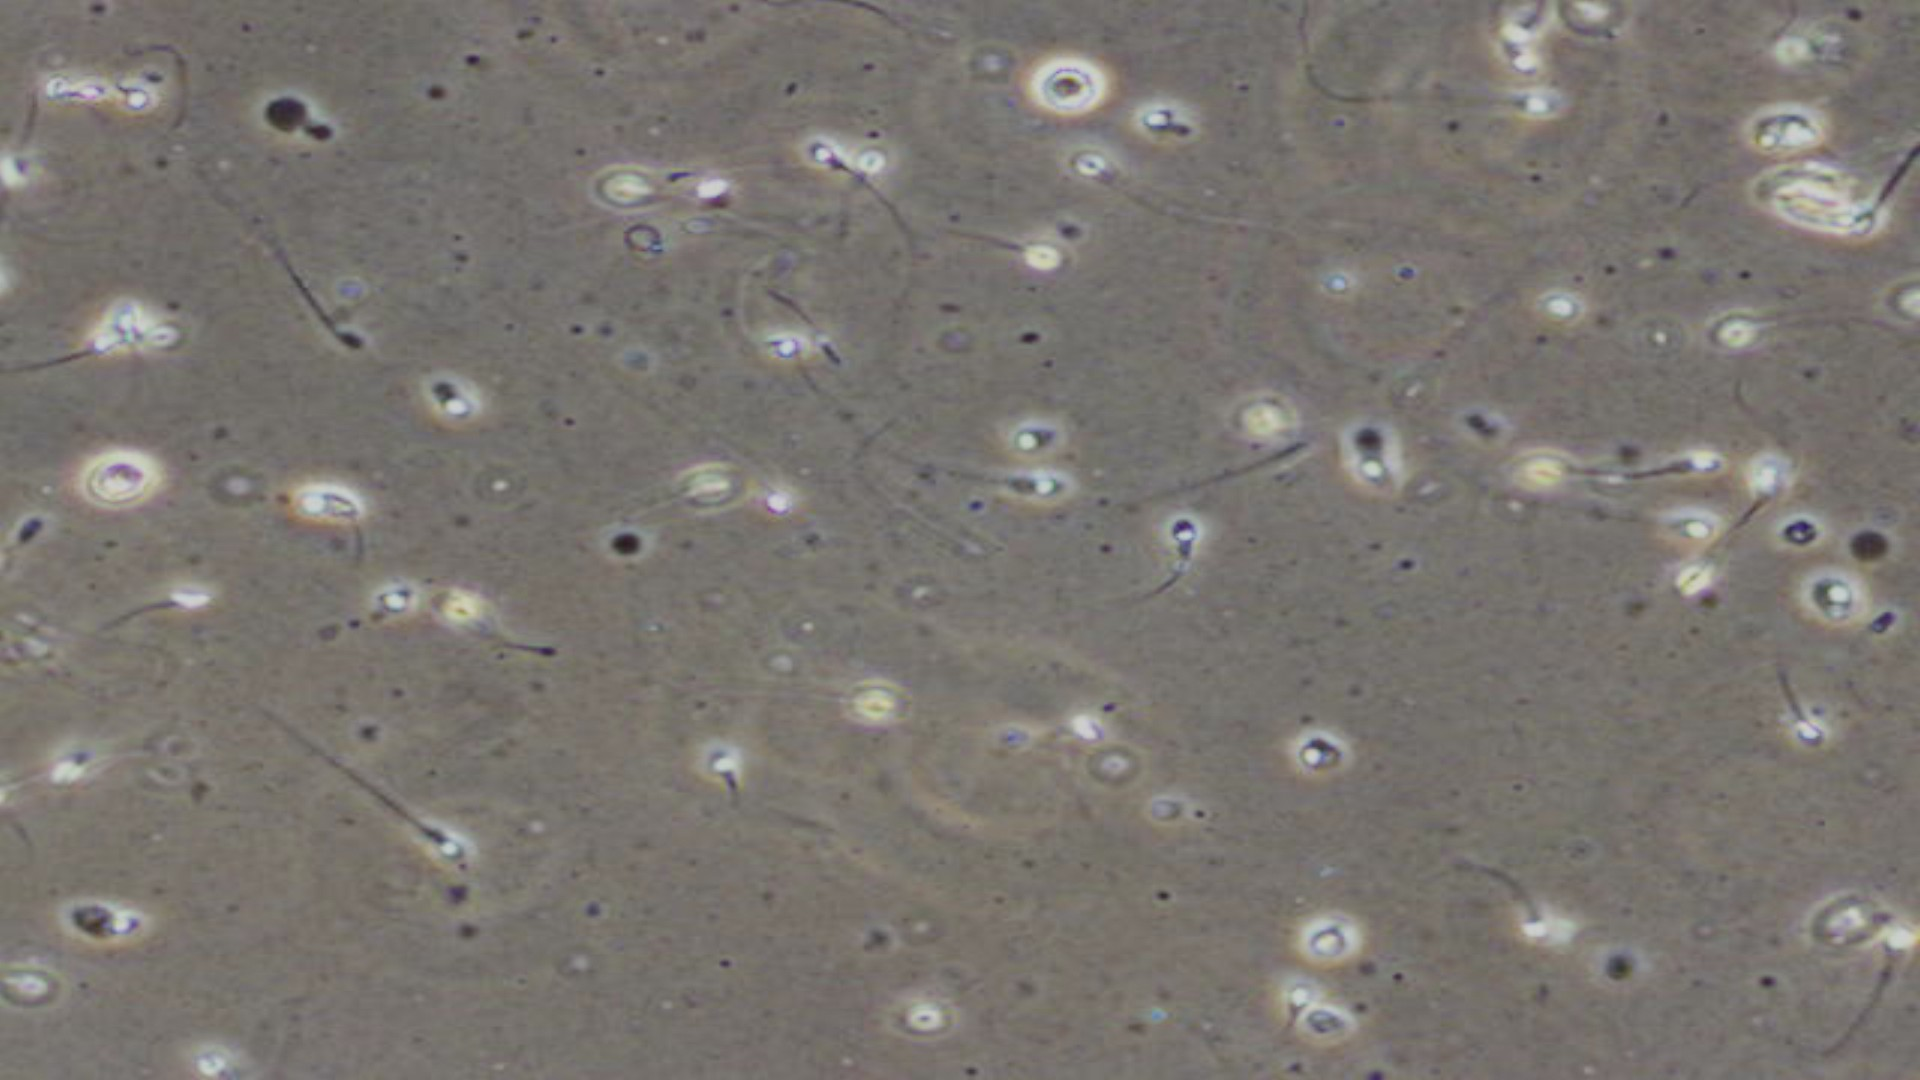sperm: (322, 742, 467, 856), (808, 138, 947, 229), (1460, 858, 1545, 953), (1400, 78, 1575, 121), (1131, 517, 1215, 604), (1, 331, 120, 390), (1596, 448, 1727, 495), (972, 471, 1095, 517), (1756, 674, 1820, 750), (125, 575, 235, 617), (1627, 506, 1722, 549), (703, 736, 745, 810)
